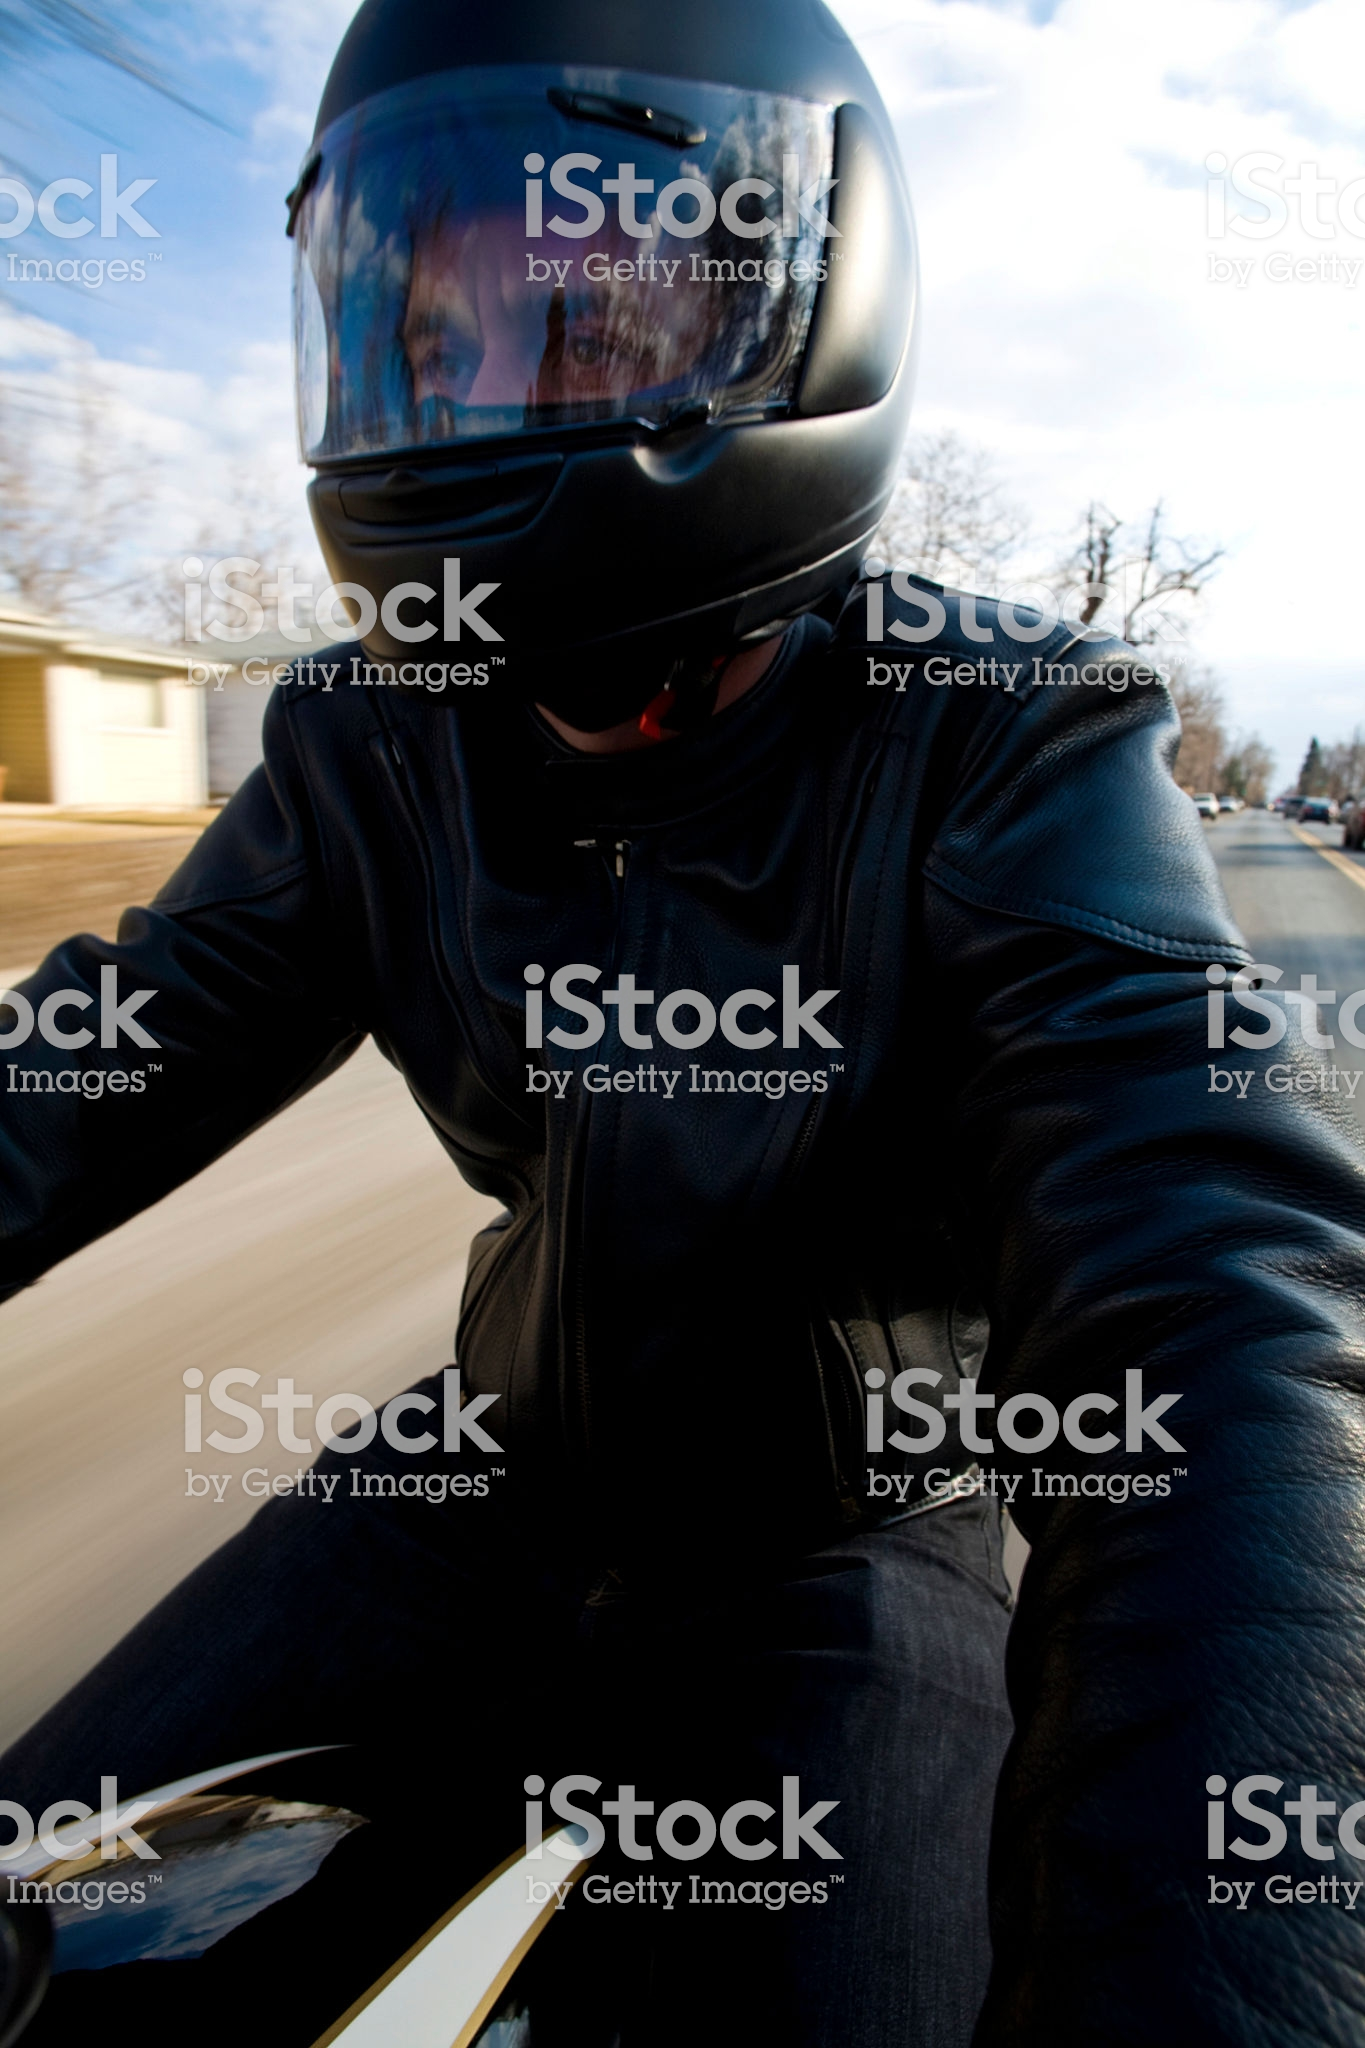helmet: (257, 6, 945, 588)
